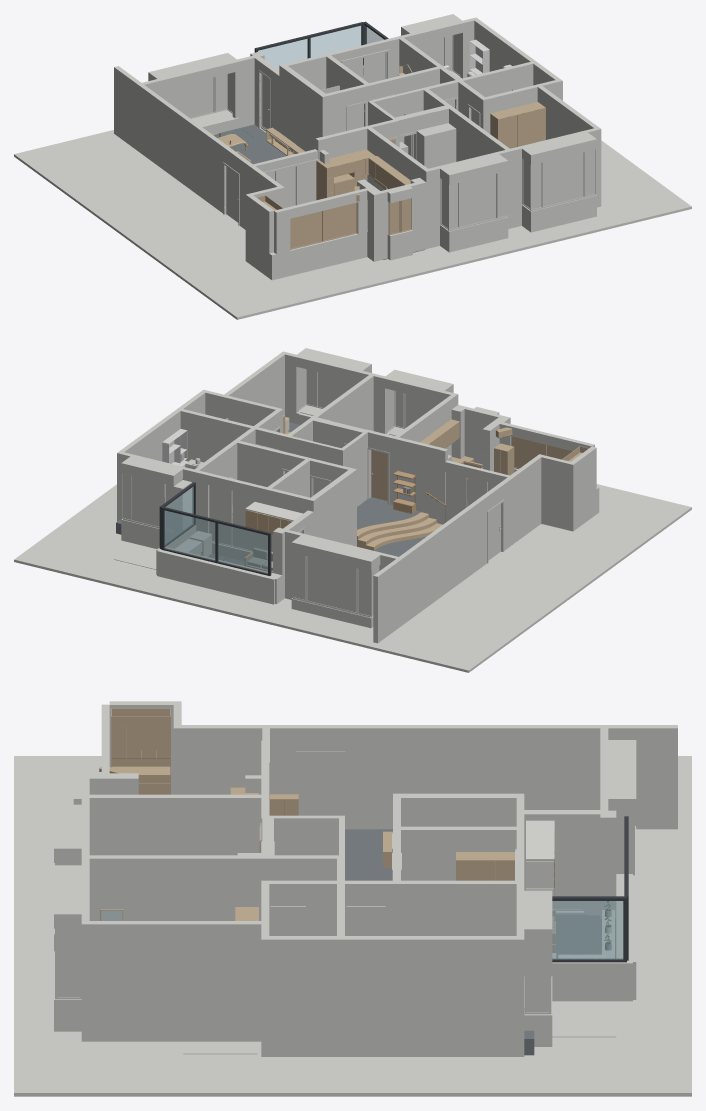
Rendered from interaction_proxy.glb.
The picture shows the model from 3 angles, top to bottom: view 1: azimuth 30°, elevation 25°; view 2: azimuth 150°, elevation 25°; view 3: azimuth 270°, elevation 25°; orthographic projection. The views are drawn at different scales.
Visible parts, largest first — view 1: SITE_GROUND.001, VIEW_WALL_W_wall_md_0006.001, VIEW_WALL_LIVING_FIX_GUEST_BATH_FULL_WALL.001, VIEW_WALL_W_wall_md_0042.001, VIEW_WALL_W_wall_md_0035.001, V4_W-MB-S_FRONT_GLASS_1.001, VIEW_WALL_W_wall_md_0034.001, V4_W-SMB-S_FRONT_GLASS_1.001, VIEW_WALL_W_wall_md_0007.001, VIEW_WALL_W_wall_md_0021.001, VIEW_WALL_W_wall_md_0030.001, VIEW_WALL_W_wall_md_0060.001 (+46 smaller); view 2: SITE_GROUND.001, VIEW_WALL_W_wall_md_0006.001, VIEW_WALL_W_wall_md_0062.001, VIEW_WALL_W_wall_md_0005.001, VIEW_WALL_W_wall_md_0044.001, VIEW_WALL_W_wall_md_0043.001, VIEW_WALL_LIVING_FIX_GUEST_BATH_FULL_WALL.001, LIVING_FIX_BAY_FRONT_GLASS_1.001, VIEW_WALL_W_wall_md_0049.001, VIEW_WALL_W_wall_md_0055.001, NORTH_BALCONY_GLASS_NORTH_B.001, VIEW_WALL_W_wall_md_0007.001 (+55 smaller); view 3: SITE_GROUND.001, VIEW_WALL_W_wall_md_0030.001, VIEW_WALL_W_wall_md_0033.001, VIEW_WALL_W_wall_md_0006.001, VIEW_WALL_W_wall_md_0021.001, VIEW_WALL_W_wall_md_0015.001, VIEW_WALL_W_wall_md_0032.001, VIEW_WALL_W_wall_md_0005.001, VIEW_WALL_W_wall_md_0025.001, VIEW_WALL_W_wall_md_0007.001, VIEW_WALL_W_wall_md_0019.001, NORTH_BALCONY_GLASS_EAST.001 (+38 smaller).
Part boxes in pixels (x1=…): SITE_GROUND.001: x1=14, y1=128, x2=691, y2=319; VIEW_WALL_W_wall_md_0006.001: x1=139, y1=85, x2=227, y2=212; VIEW_WALL_LIVING_FIX_GUEST_BATH_FULL_WALL.001: x1=282, y1=66, x2=325, y2=153; VIEW_WALL_W_wall_md_0042.001: x1=276, y1=232, x2=367, y2=278; VIEW_WALL_W_wall_md_0035.001: x1=533, y1=139, x2=594, y2=231; V4_W-MB-S_FRONT_GLASS_1.001: x1=543, y1=152, x2=583, y2=206; VIEW_WALL_W_wall_md_0034.001: x1=451, y1=161, x2=505, y2=251; V4_W-SMB-S_FRONT_GLASS_1.001: x1=460, y1=174, x2=496, y2=226; VIEW_WALL_W_wall_md_0007.001: x1=114, y1=66, x2=141, y2=150; VIEW_WALL_W_wall_md_0021.001: x1=449, y1=107, x2=509, y2=161; VIEW_WALL_W_wall_md_0030.001: x1=537, y1=86, x2=598, y2=139; VIEW_WALL_W_wall_md_0060.001: x1=232, y1=55, x2=254, y2=128; SITE_GROUND.001: x1=14, y1=484, x2=691, y2=672; VIEW_WALL_W_wall_md_0006.001: x1=399, y1=495, x2=487, y2=624; VIEW_WALL_W_wall_md_0062.001: x1=157, y1=547, x2=277, y2=604; VIEW_WALL_W_wall_md_0005.001: x1=499, y1=456, x2=541, y2=550; VIEW_WALL_W_wall_md_0044.001: x1=396, y1=437, x2=441, y2=523; VIEW_WALL_W_wall_md_0043.001: x1=541, y1=455, x2=575, y2=531; VIEW_WALL_LIVING_FIX_GUEST_BATH_FULL_WALL.001: x1=311, y1=470, x2=354, y2=545; LIVING_FIX_BAY_FRONT_GLASS_1.001: x1=307, y1=556, x2=356, y2=612; VIEW_WALL_W_wall_md_0049.001: x1=180, y1=409, x2=253, y2=462; VIEW_WALL_W_wall_md_0055.001: x1=196, y1=470, x2=266, y2=561; NORTH_BALCONY_GLASS_NORTH_B.001: x1=164, y1=510, x2=215, y2=560; VIEW_WALL_W_wall_md_0007.001: x1=373, y1=559, x2=400, y2=643; SITE_GROUND.001: x1=14, y1=756, x2=691, y2=1096; VIEW_WALL_W_wall_md_0030.001: x1=89, y1=921, x2=261, y2=1041; VIEW_WALL_W_wall_md_0033.001: x1=345, y1=936, x2=516, y2=1056; VIEW_WALL_W_wall_md_0006.001: x1=345, y1=725, x2=600, y2=829; VIEW_WALL_W_wall_md_0021.001: x1=89, y1=855, x2=261, y2=920; VIEW_WALL_W_wall_md_0015.001: x1=89, y1=794, x2=261, y2=855; VIEW_WALL_W_wall_md_0032.001: x1=261, y1=936, x2=336, y2=1056; VIEW_WALL_W_wall_md_0005.001: x1=181, y1=725, x2=296, y2=794; VIEW_WALL_W_wall_md_0025.001: x1=401, y1=880, x2=516, y2=935; VIEW_WALL_W_wall_md_0007.001: x1=608, y1=725, x2=677, y2=829; VIEW_WALL_W_wall_md_0019.001: x1=401, y1=826, x2=516, y2=880; NORTH_BALCONY_GLASS_EAST.001: x1=552, y1=901, x2=623, y2=959.
Size of the model in its own units: 20 by 3.37 by 17.
